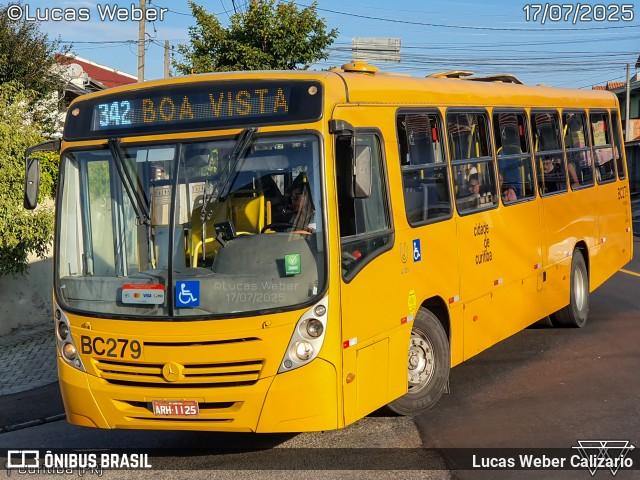BOA VISTA: (135, 84, 292, 125)
